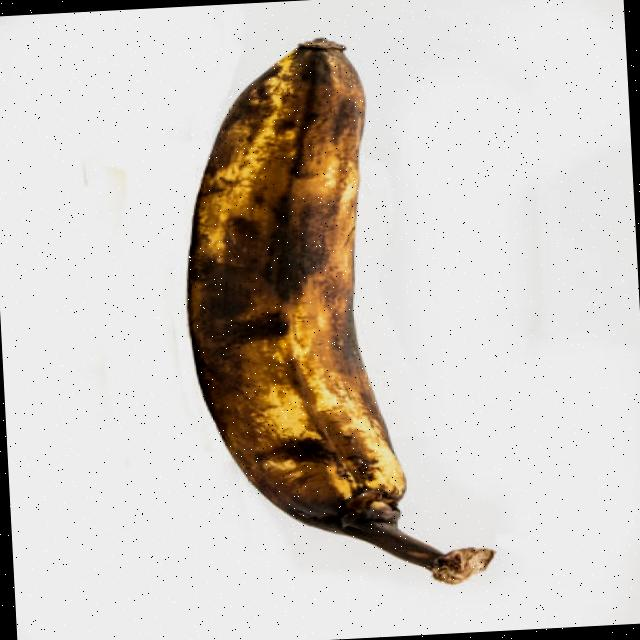Rotten: (173, 32, 497, 599)
